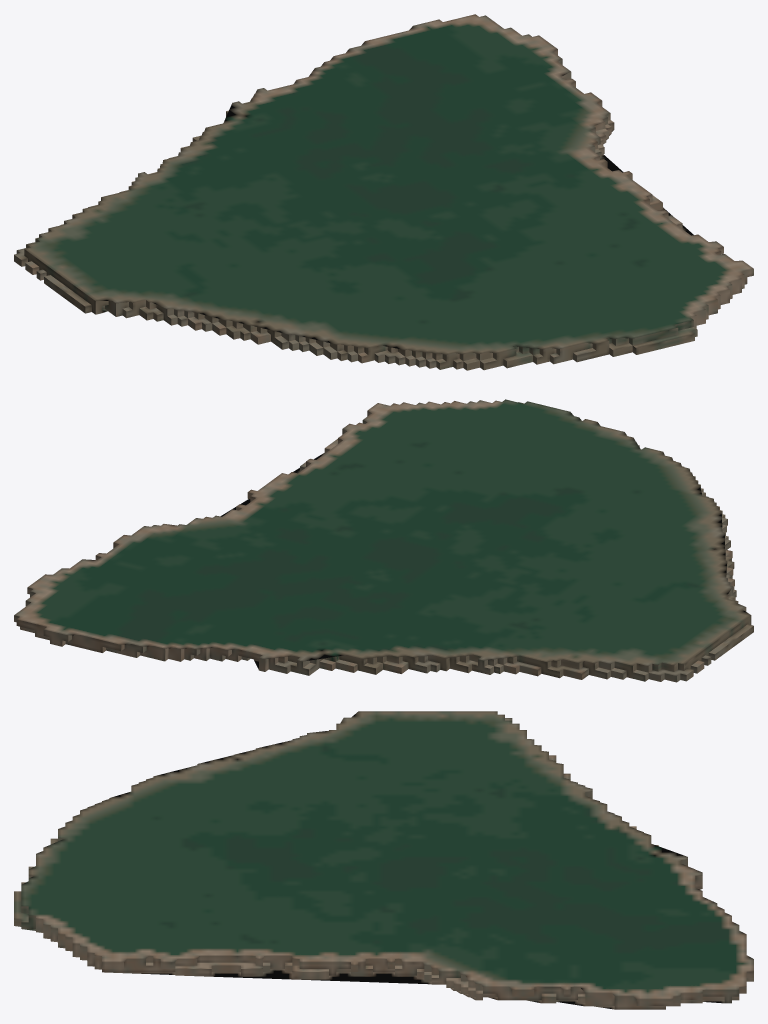
The model's file is ilhaXimba3.fbx.
The picture shows the model from 3 angles, top to bottom: view 1: azimuth 30°, elevation 25°; view 2: azimuth 150°, elevation 25°; view 3: azimuth 270°, elevation 25°; orthographic projection. The views are drawn at different scales.
Parts seen in each view (by area): view 1: HeightMapMk2-Ximboso-2; view 2: HeightMapMk2-Ximboso-2; view 3: HeightMapMk2-Ximboso-2.
Boxes of the visible parts, box(x1,y1,x2,y2) form: HeightMapMk2-Ximboso-2: box(14, 14, 753, 370); HeightMapMk2-Ximboso-2: box(14, 399, 753, 682); HeightMapMk2-Ximboso-2: box(14, 711, 753, 1009).
Bounding box in the file's own units: 940 × 20 × 1010.
